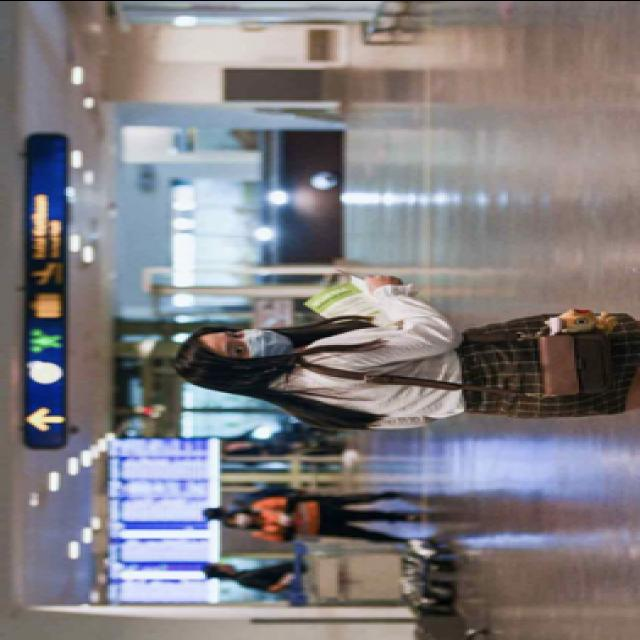with_mask: (215, 328, 291, 362), (224, 512, 252, 530)
